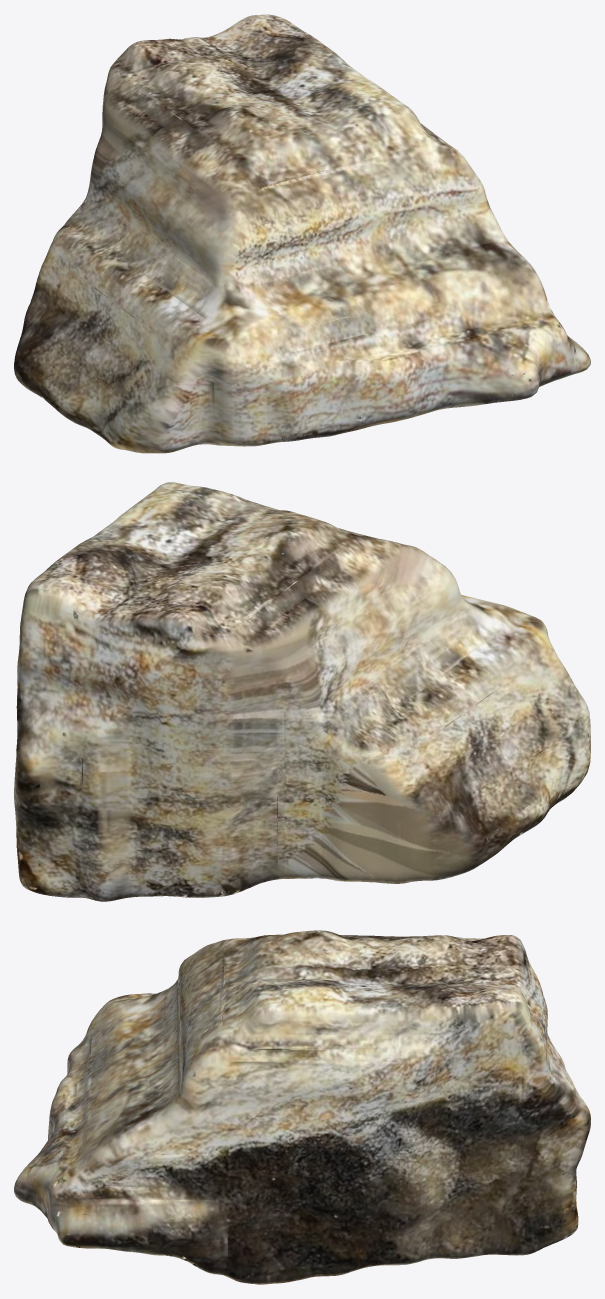
File: 11oclock.glb
The picture shows the model from 3 angles, top to bottom: view 1: azimuth 30°, elevation 25°; view 2: azimuth 150°, elevation 25°; view 3: azimuth 270°, elevation 25°; orthographic projection. The views are drawn at different scales.
Parts seen in each view (by area): view 1: Rock; view 2: Rock; view 3: Rock.
Boxes of the visible parts, x1,y1,x2,y2 form: Rock: [14, 14, 590, 453]; Rock: [14, 482, 590, 901]; Rock: [14, 930, 590, 1284].
Size of the model in its own units: 0.7816 by 0.4744 by 0.9348.
1 material, 1 textured.
